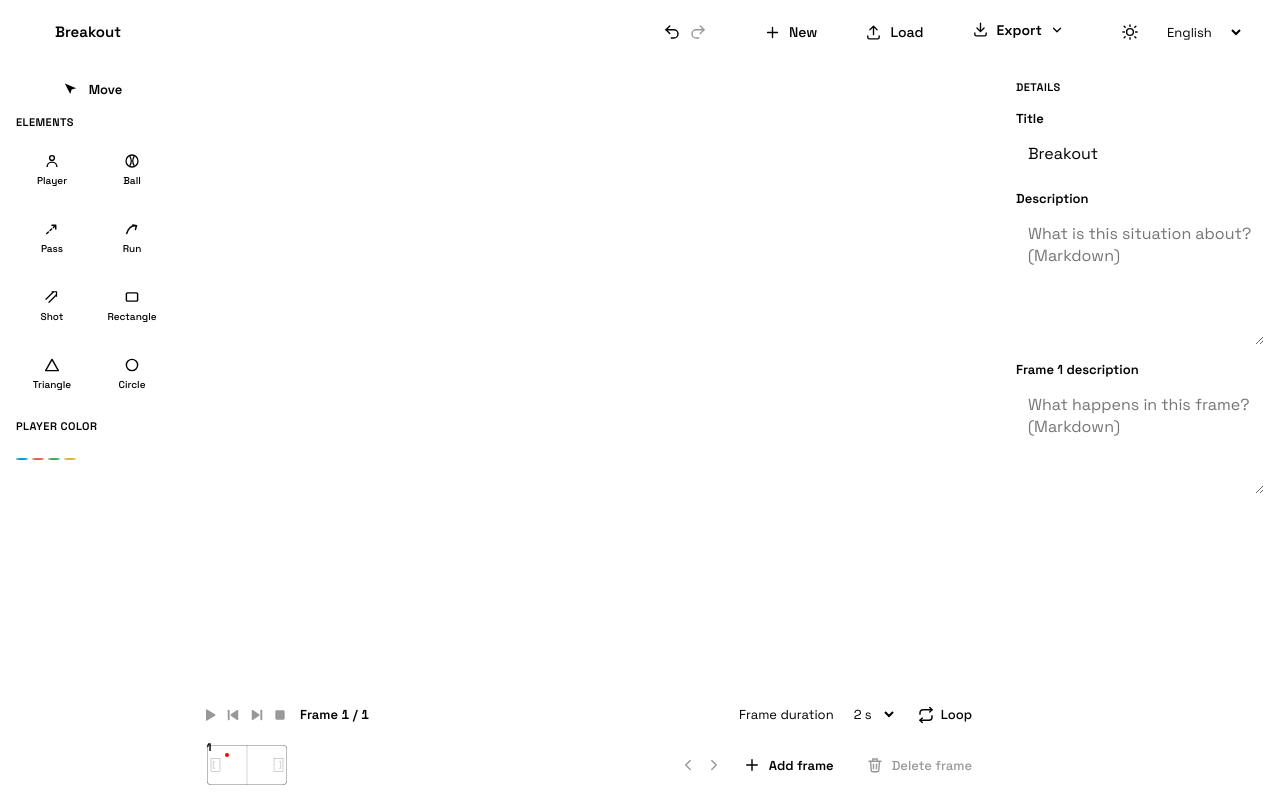
Test case: editor page › frames › Add frame adds a copy after the current frame and switches to it
Click the button "Add frame": (788, 765) [731,756,846,774]
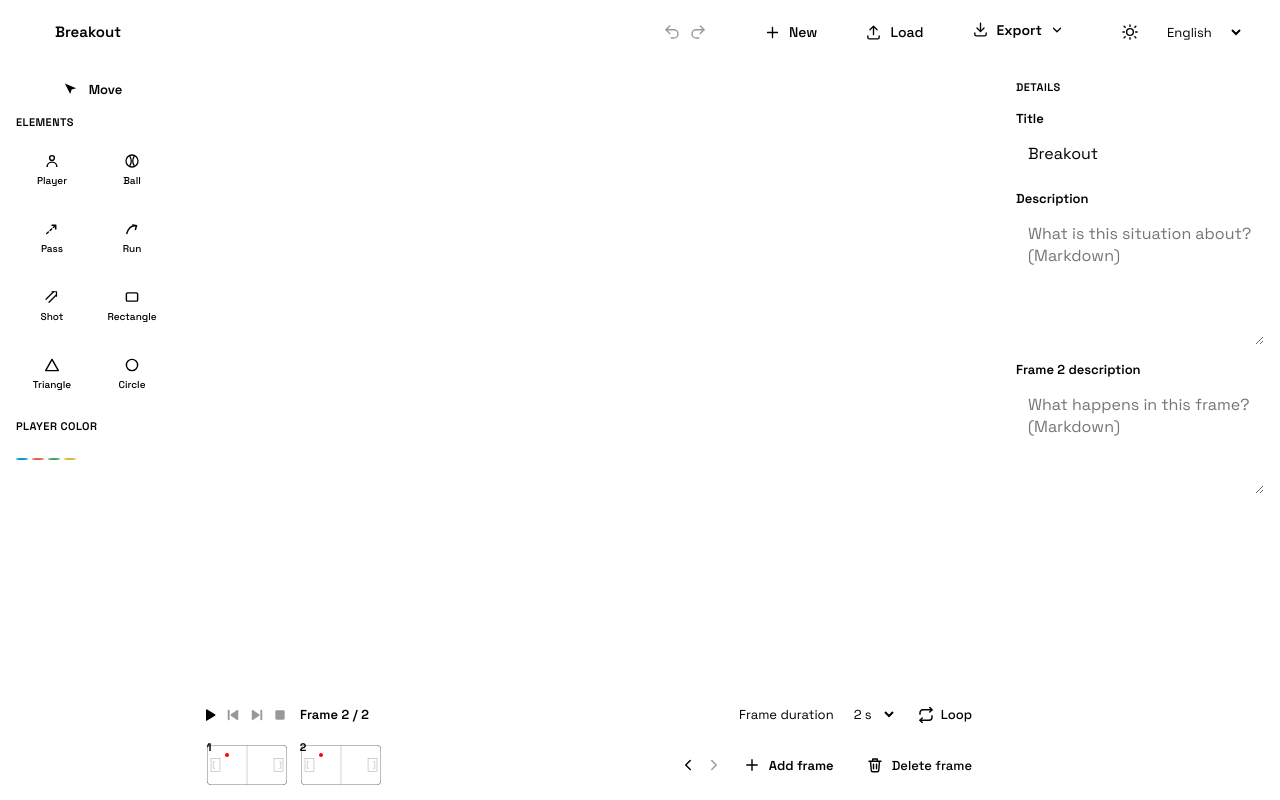
Expected: the button named "Undo" is disabled, [663,23,681,41]
